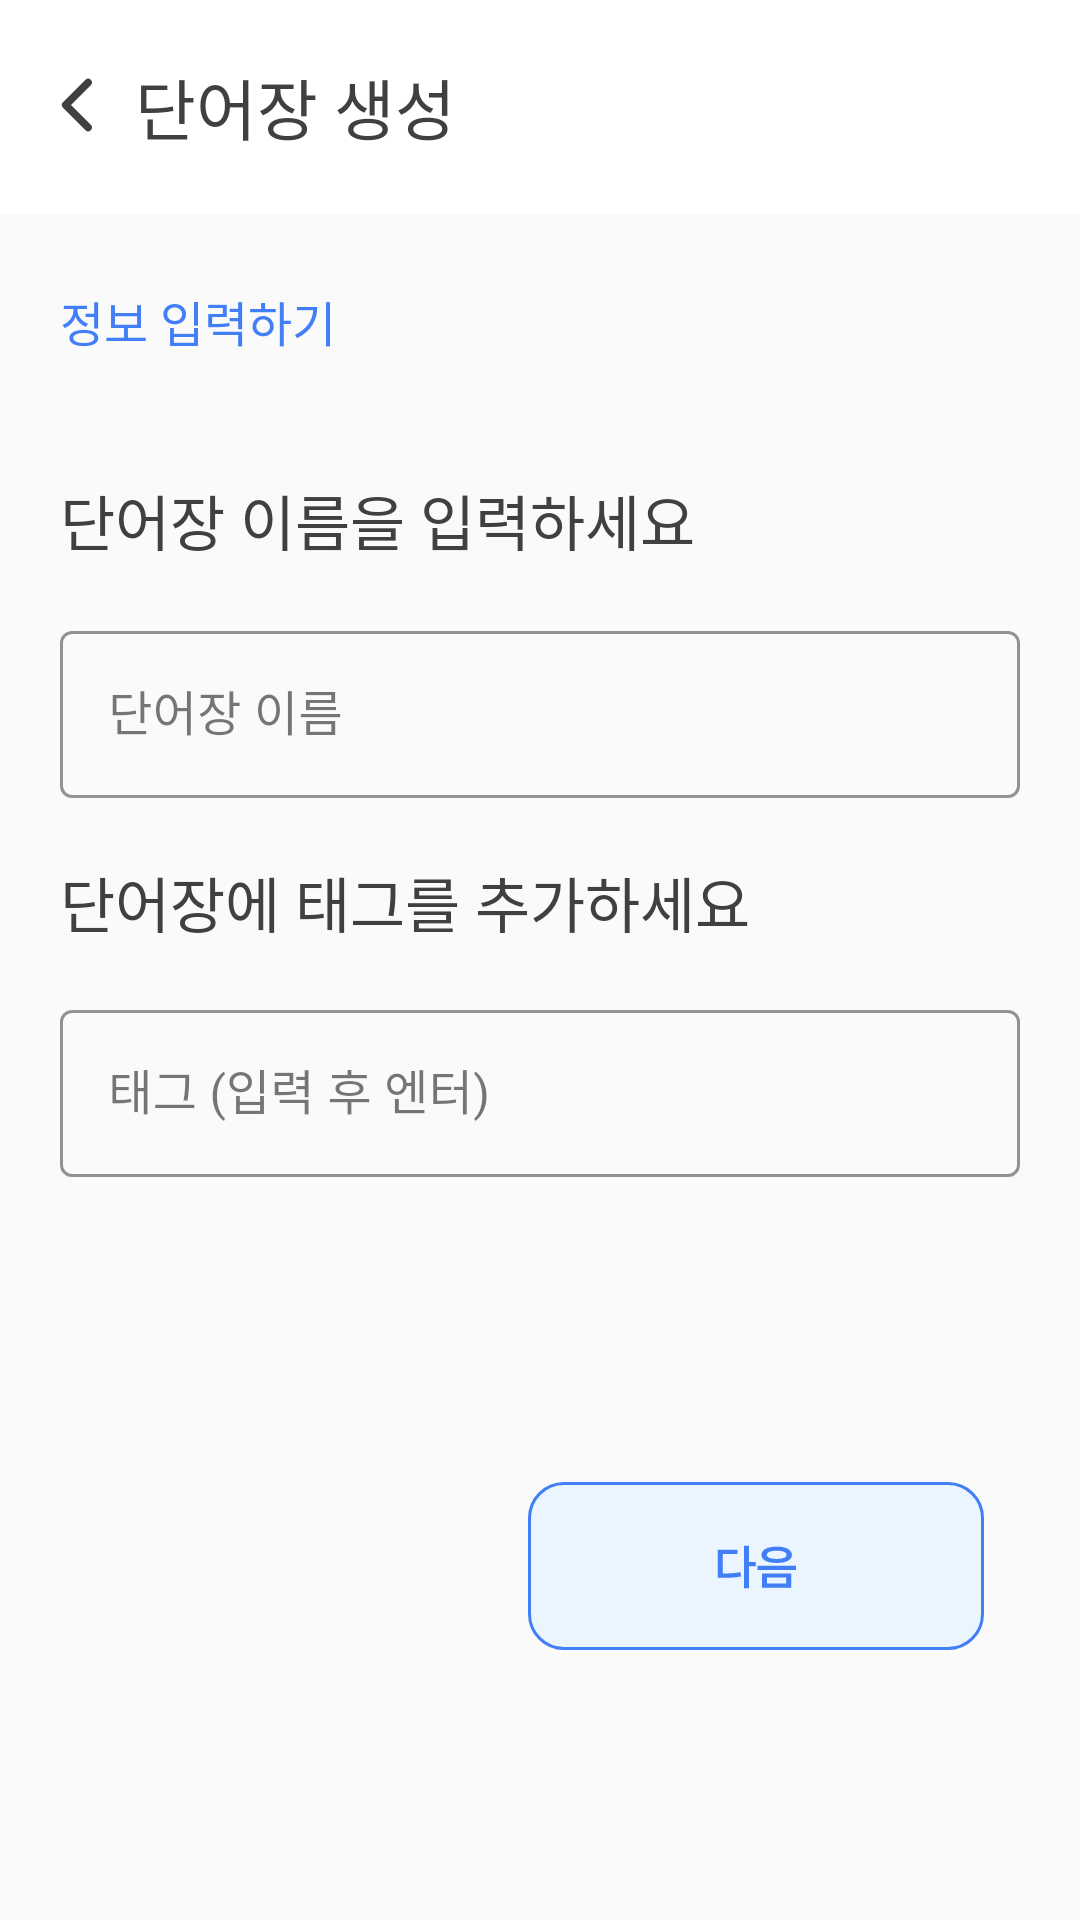

Locate icon controls on the screen. Image size 1080px×1920px, boxes as (left=x1, top=y1, right=x2, bottom=y2).
back: (left=61, top=78, right=92, bottom=132)
